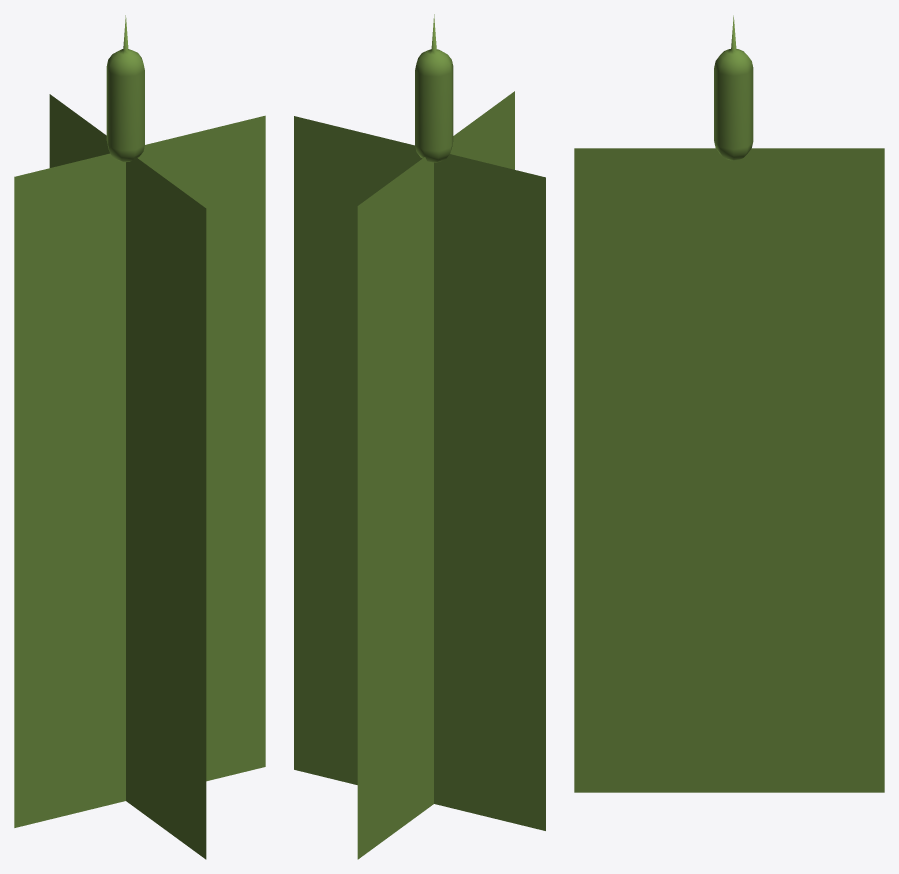
Rendered from CatTail_2.glb.
3 renders of one model, left to right at view 1: azimuth 30°, elevation 25°; view 2: azimuth 150°, elevation 25°; view 3: azimuth 270°, elevation 25°, orthographic.
Visible parts, largest first — view 1: CatTail_2; view 2: CatTail_2; view 3: CatTail_2.
Part boxes in pixels (x1,y1,x2,y2): CatTail_2: (14,15,265,859); CatTail_2: (294,14,545,859); CatTail_2: (574,15,884,792).
Bounding box in the file's own units: 0.2136 × 0.6397 × 0.2311.
